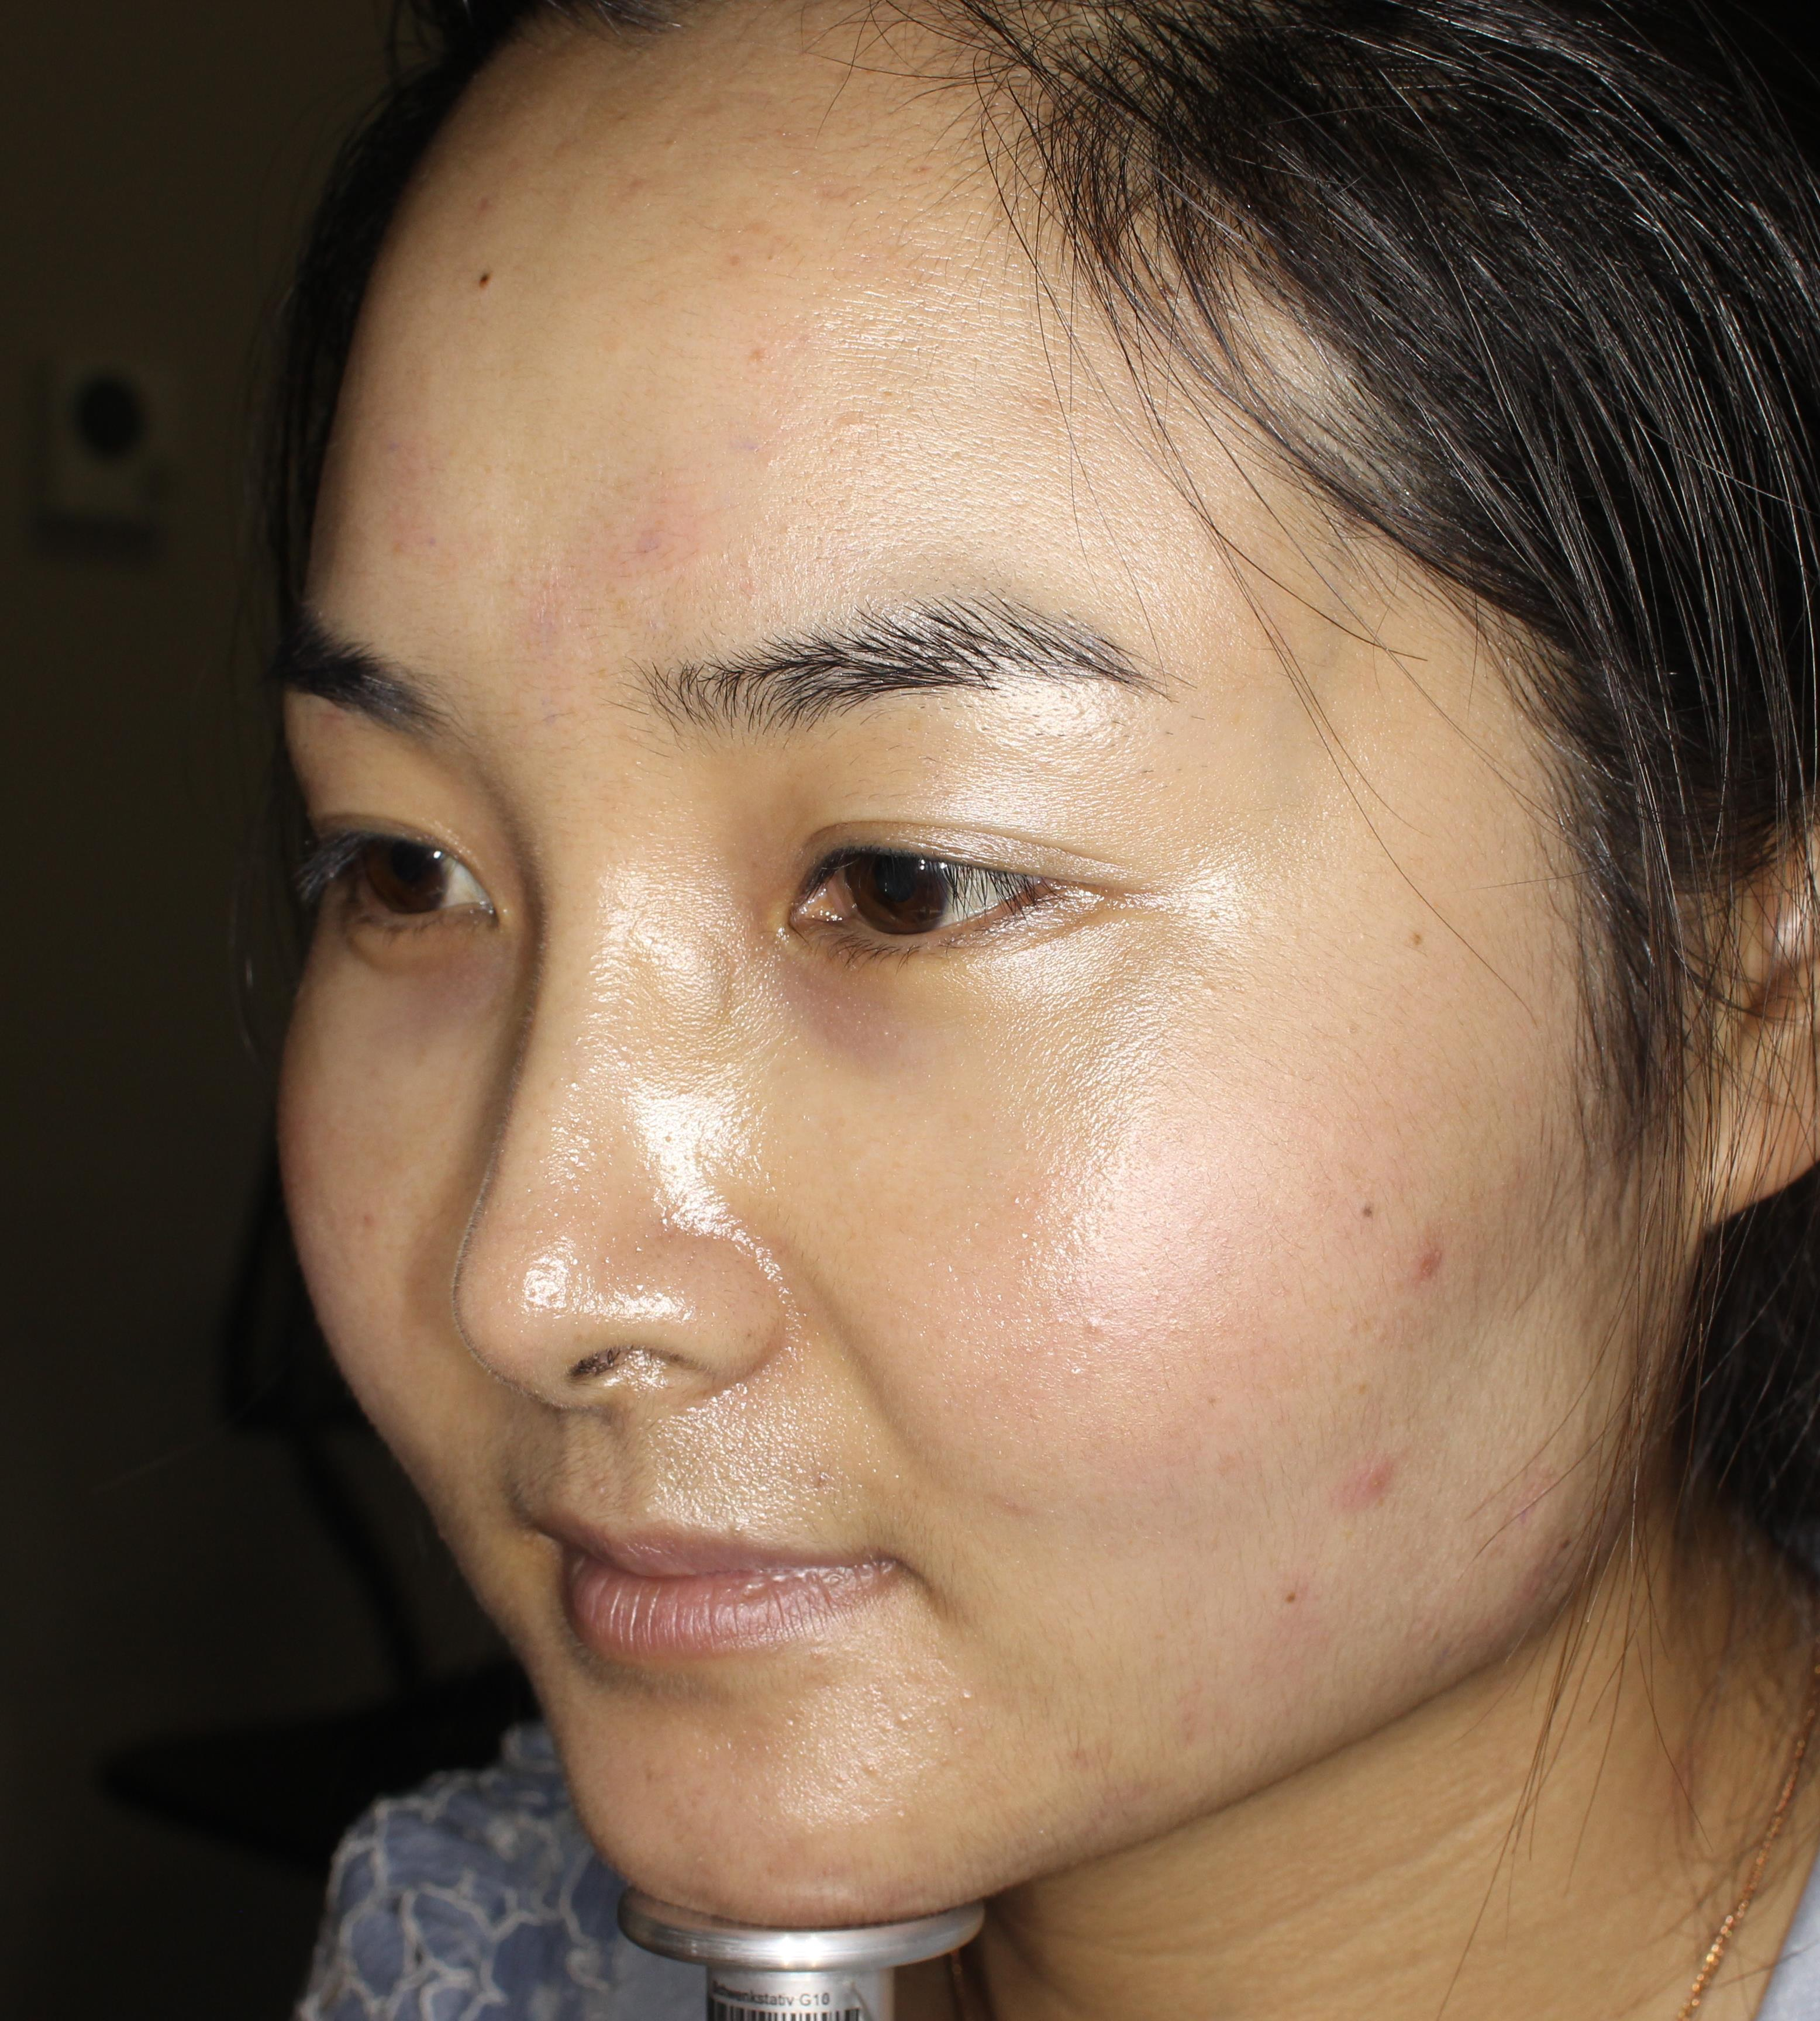fore: (1390, 1217, 1476, 1306), (1328, 1447, 1409, 1531)
